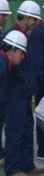boots: (5, 170, 30, 176), (0, 170, 16, 176)
hard-hat: (1, 30, 28, 53)
ppe-suit: (0, 29, 22, 176)
